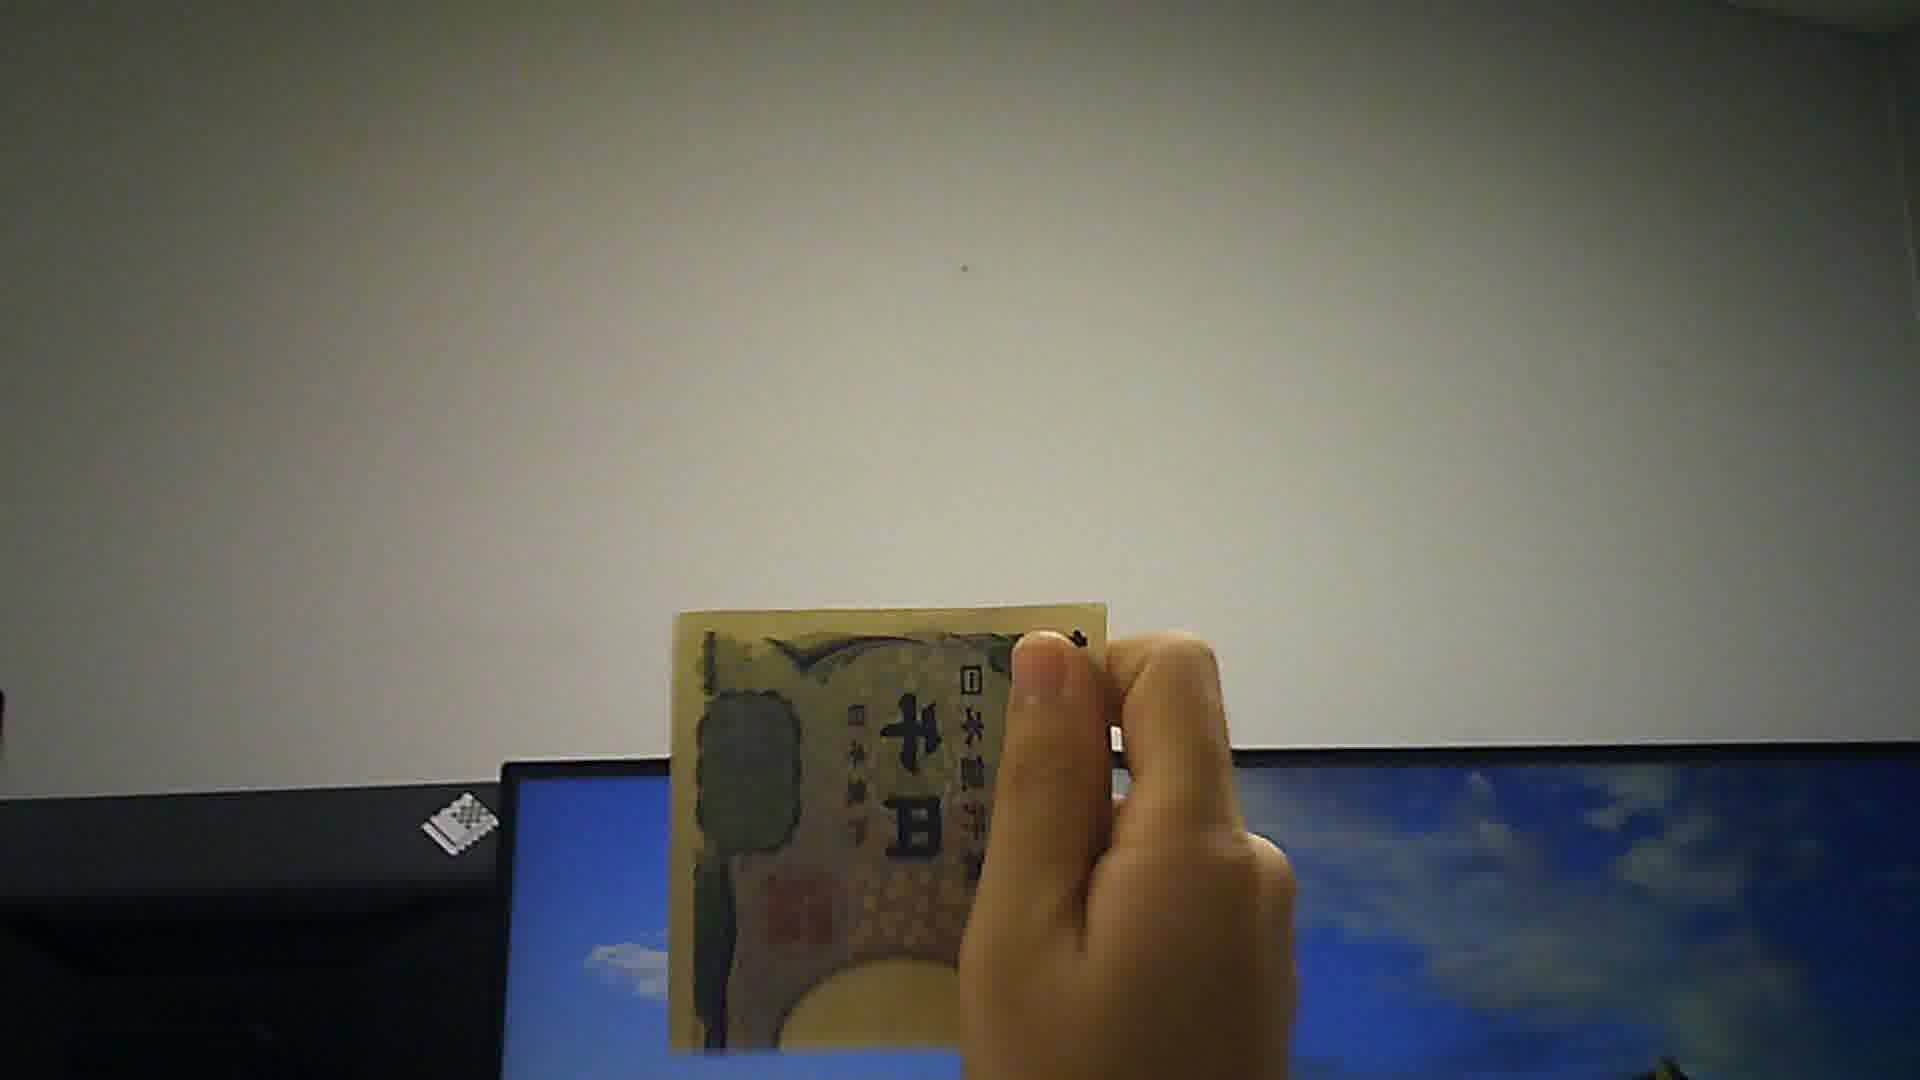1,000 Yen: (655, 603, 1101, 1048)
